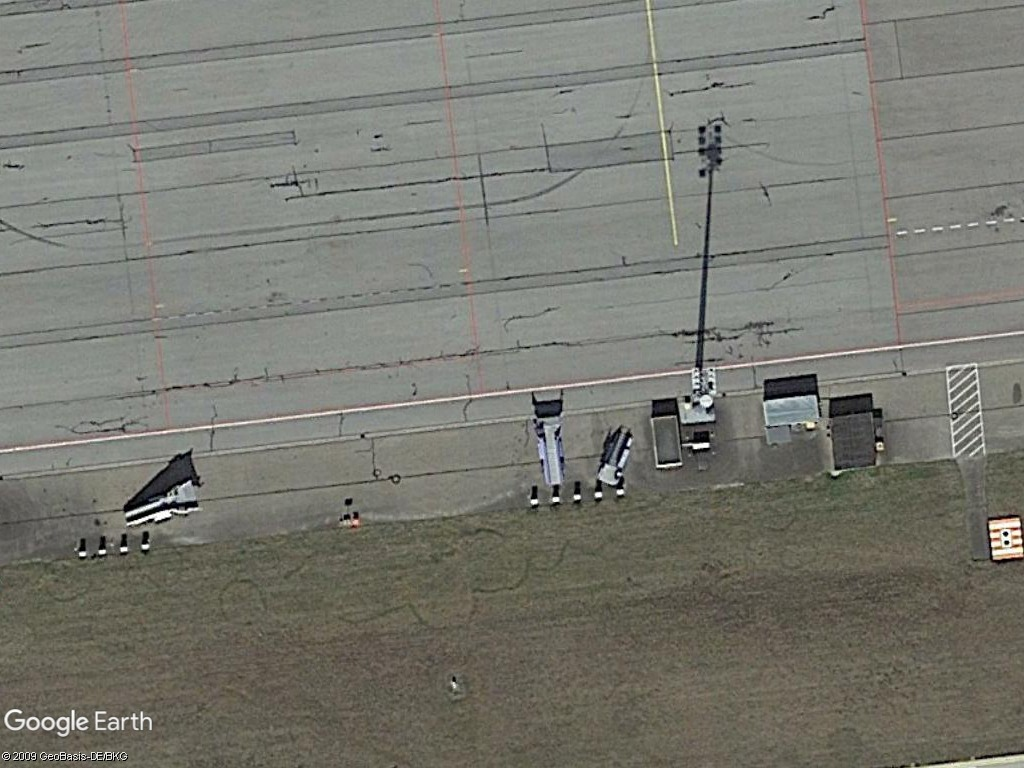stairtruck: (528, 391, 574, 492), (118, 476, 204, 529), (593, 419, 636, 491)
